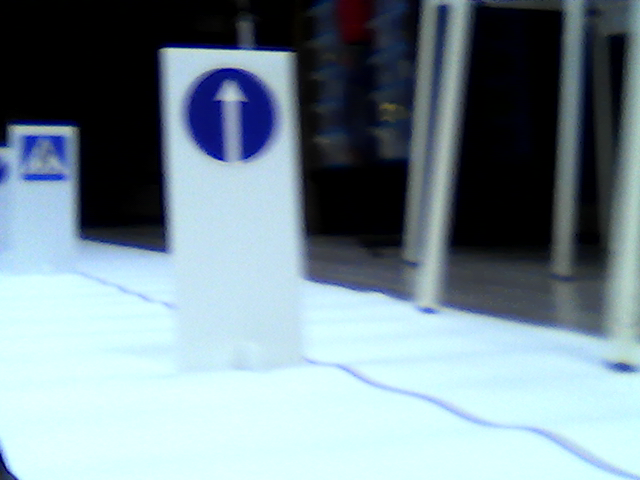forw: (185, 62, 277, 161)
pesh: (19, 132, 70, 185)
